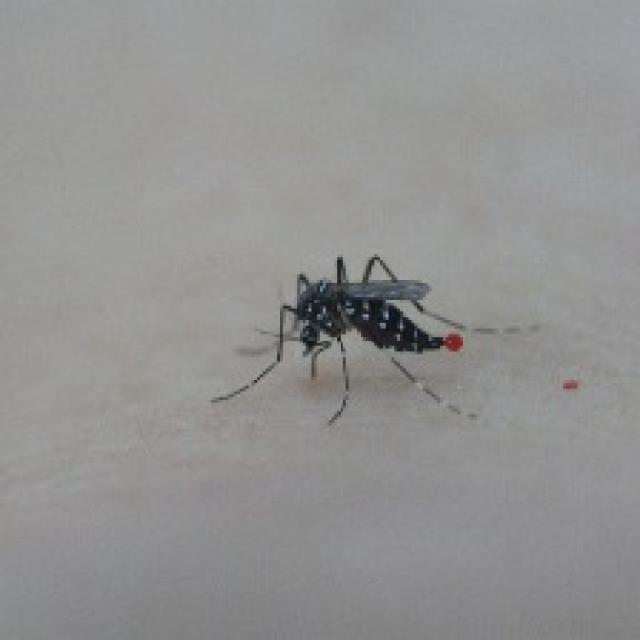aedes: (209, 248, 540, 426)
